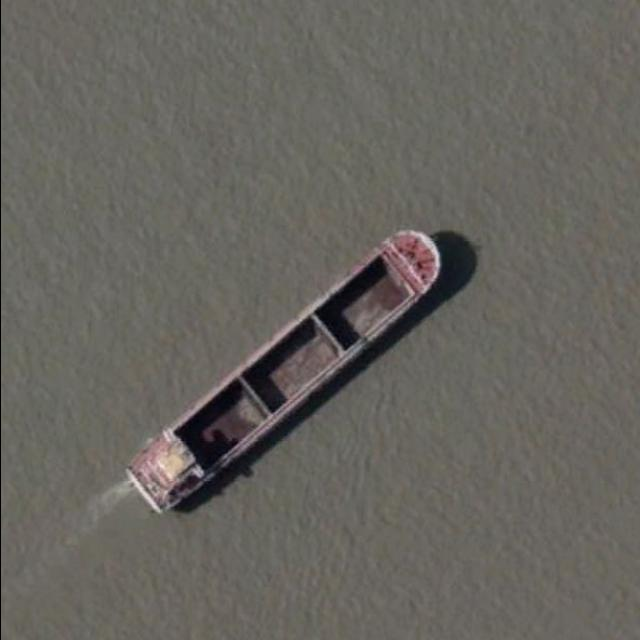ship: (123, 225, 450, 513)
